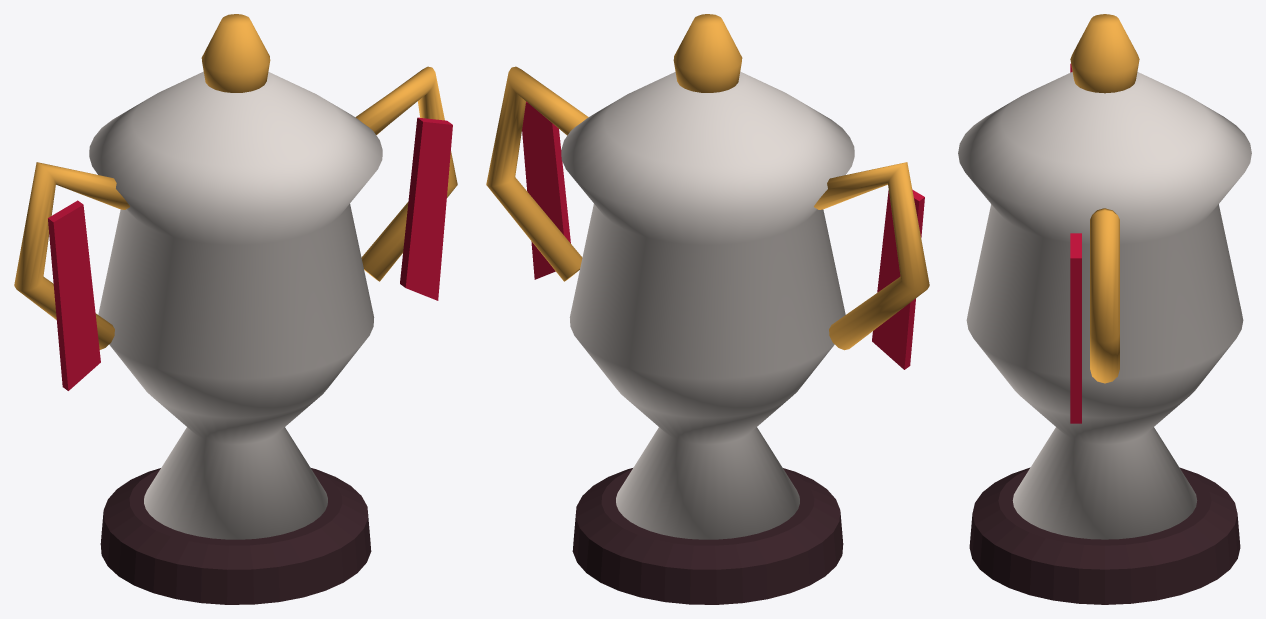
Rendered from gunners-cup-fa.glb.
The picture shows the model from 3 angles, left to right: view 1: azimuth 30°, elevation 25°; view 2: azimuth 150°, elevation 25°; view 3: azimuth 270°, elevation 25°; orthographic projection.
Visible parts, largest first — view 1: gunners-cup-fa · Chased silver, gunners-cup-fa · Ebonized wood, gunners-cup-fa · Gilt, gunners-cup-fa · Crimson enamel; view 2: gunners-cup-fa · Chased silver, gunners-cup-fa · Ebonized wood, gunners-cup-fa · Gilt, gunners-cup-fa · Crimson enamel; view 3: gunners-cup-fa · Chased silver, gunners-cup-fa · Ebonized wood, gunners-cup-fa · Gilt, gunners-cup-fa · Crimson enamel.
Part boxes in pixels (<box>): gunners-cup-fa · Chased silver: <box>89,71,382,539</box>; gunners-cup-fa · Ebonized wood: <box>100,468,371,604</box>; gunners-cup-fa · Gilt: <box>14,14,457,349</box>; gunners-cup-fa · Crimson enamel: <box>48,117,452,390</box>; gunners-cup-fa · Chased silver: <box>561,71,854,539</box>; gunners-cup-fa · Ebonized wood: <box>572,468,843,604</box>; gunners-cup-fa · Gilt: <box>486,14,929,350</box>; gunners-cup-fa · Crimson enamel: <box>522,101,924,369</box>; gunners-cup-fa · Chased silver: <box>958,72,1251,539</box>; gunners-cup-fa · Ebonized wood: <box>969,467,1240,604</box>; gunners-cup-fa · Gilt: <box>1070,14,1139,383</box>; gunners-cup-fa · Crimson enamel: <box>1070,63,1081,423</box>.
Size of the model in its own units: 1.76 by 2.02 by 1.02.
